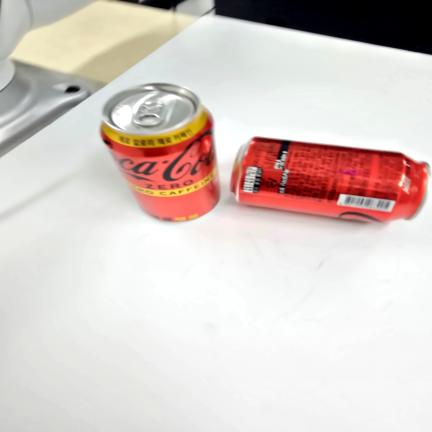can_coke_decaf: (102, 80, 222, 222)
can_coke_zero: (231, 136, 431, 225)
